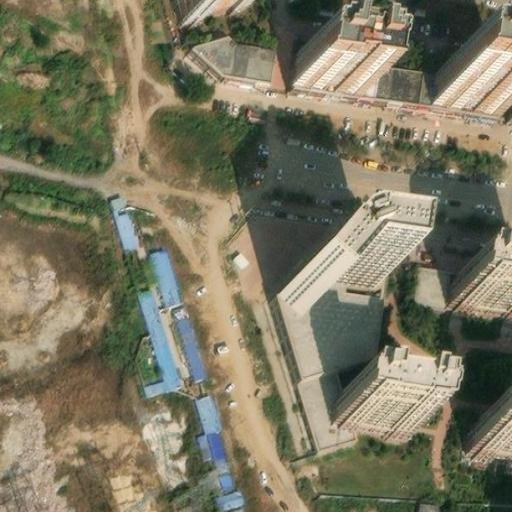building: (279, 274, 385, 443), (279, 242, 380, 308), (410, 267, 512, 312), (139, 284, 182, 390), (192, 27, 273, 77), (343, 383, 432, 426), (433, 52, 508, 103), (297, 36, 369, 86), (363, 56, 437, 97), (196, 389, 230, 460), (174, 302, 207, 371), (458, 263, 512, 303), (107, 186, 139, 243), (152, 242, 180, 296), (210, 465, 244, 504), (480, 408, 512, 445), (415, 494, 438, 512)
